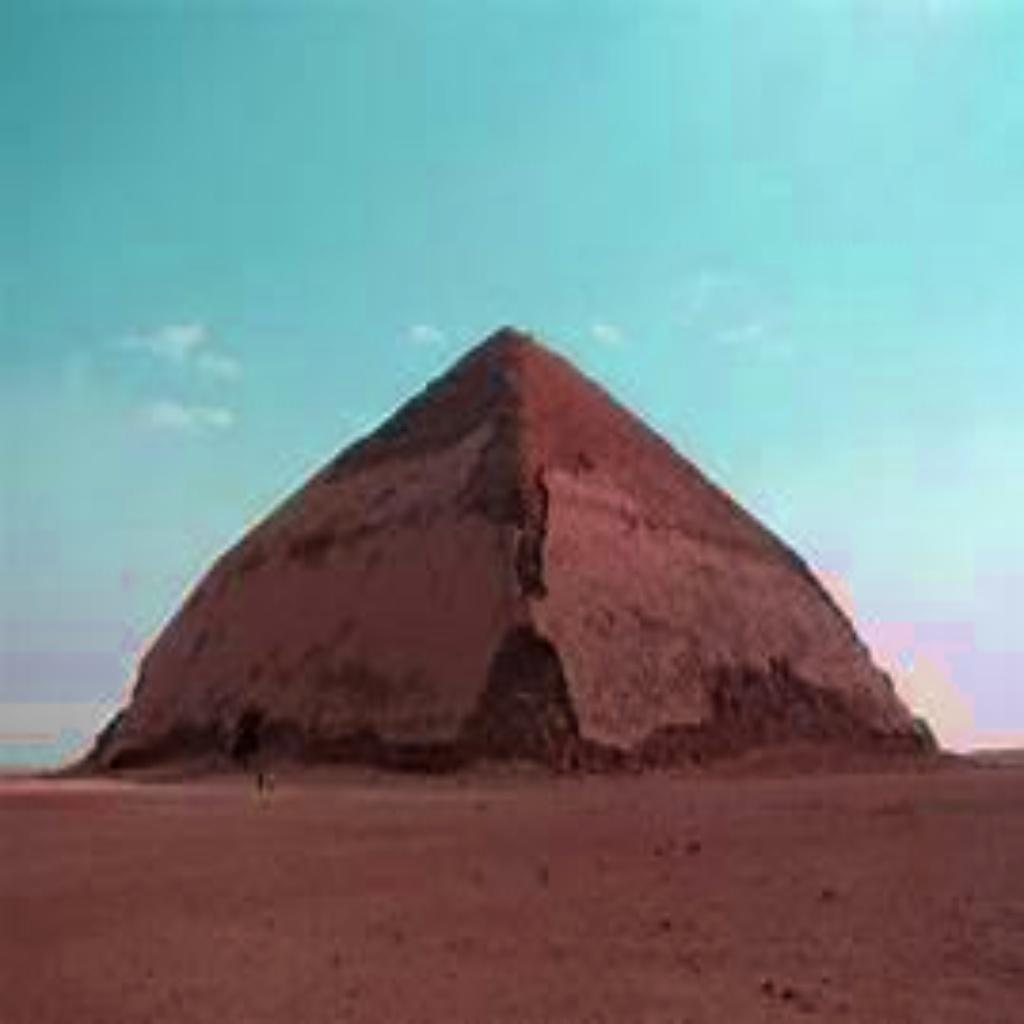Bent Pyramid of King Sneferu: (64, 310, 940, 780)
